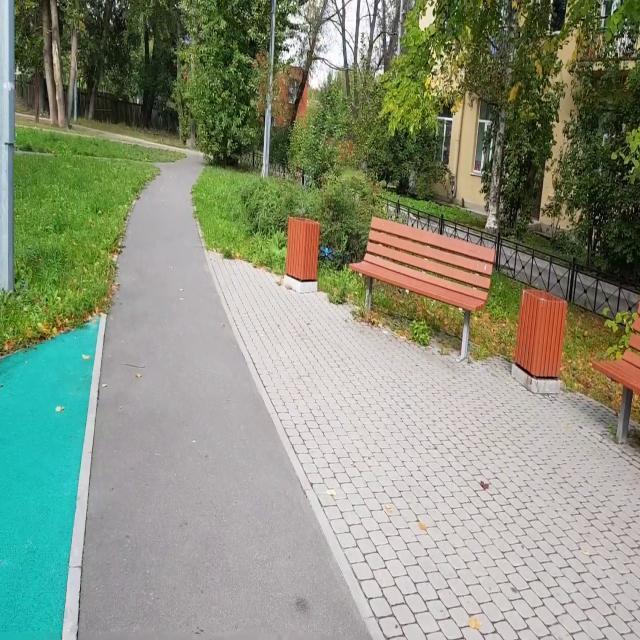Drons: (317, 244, 335, 260)
